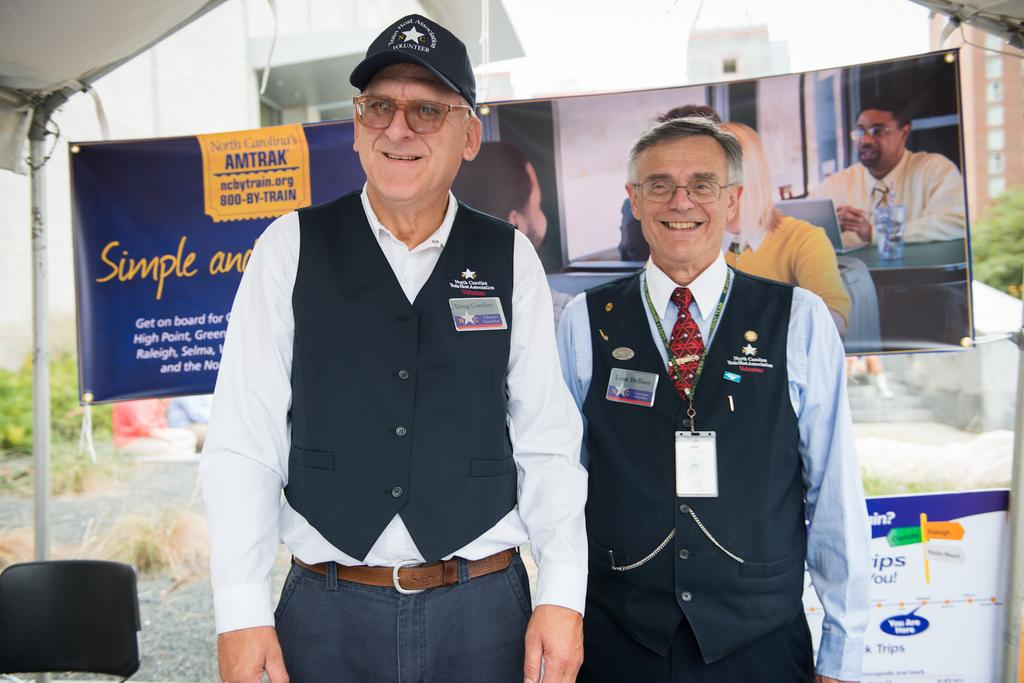Hat: (350, 12, 476, 112)
